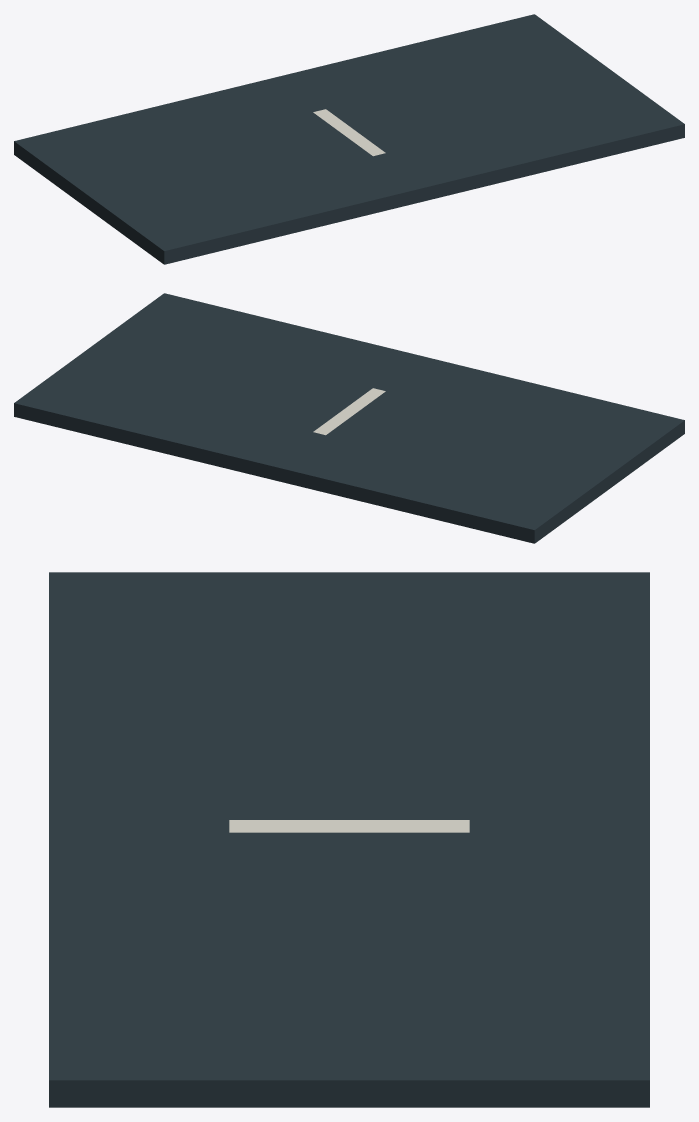
File: res_road_main.glb
3 views of the same model, one above another, from view 1: azimuth 30°, elevation 25°; view 2: azimuth 150°, elevation 25°; view 3: azimuth 270°, elevation 25° (orthographic). The views are drawn at different scales.
Visible parts, largest first — view 1: res_road_main; view 2: res_road_main; view 3: res_road_main.
Boxes of the visible parts, <box> form: res_road_main: <box>14,14,684,264</box>; res_road_main: <box>14,293,684,543</box>; res_road_main: <box>49,572,649,1107</box>.
Bounding box in the file's own units: 4 × 0.1 × 2.
